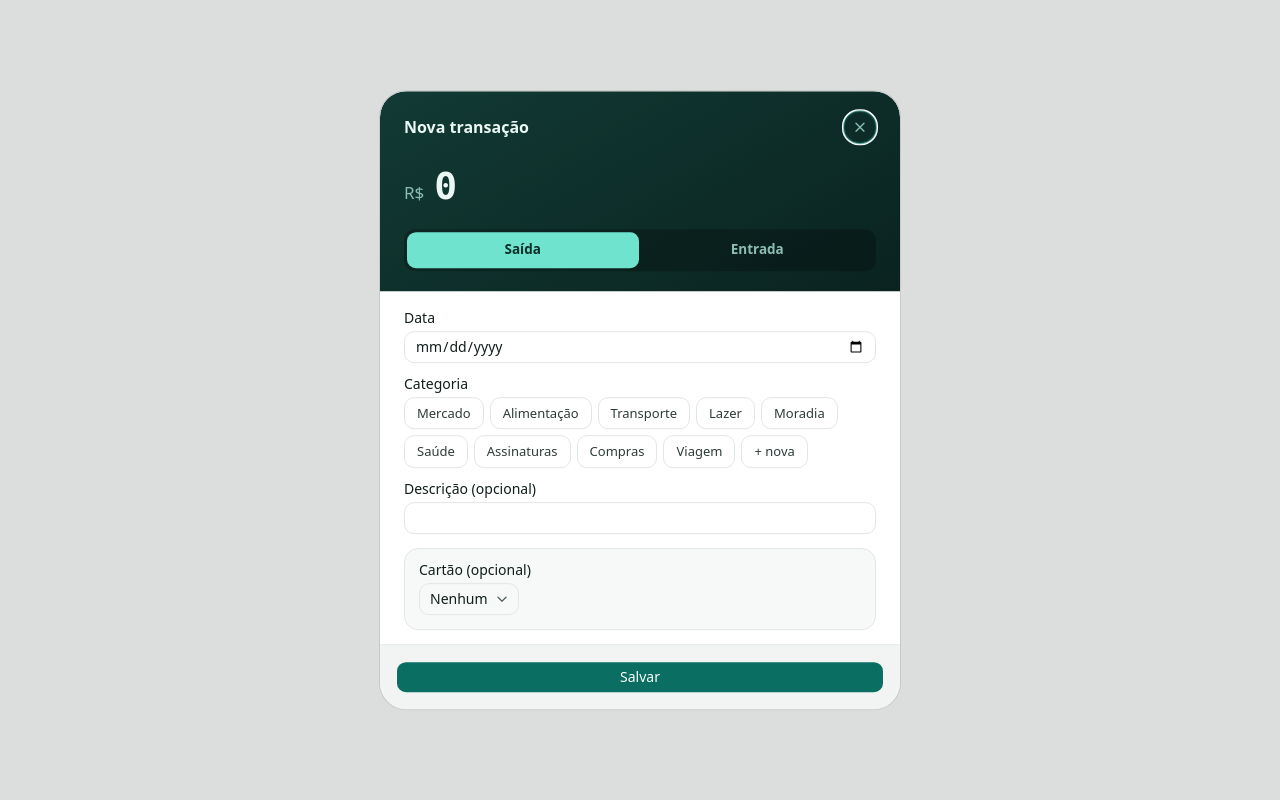
Test: TransactionFormDialog › oculta o campo de cartão quando o tipo é entrada
The width and height of the screenshot is (1280, 800).
Click the button "Entrada". click: (757, 250)
box: [642, 232, 873, 268]
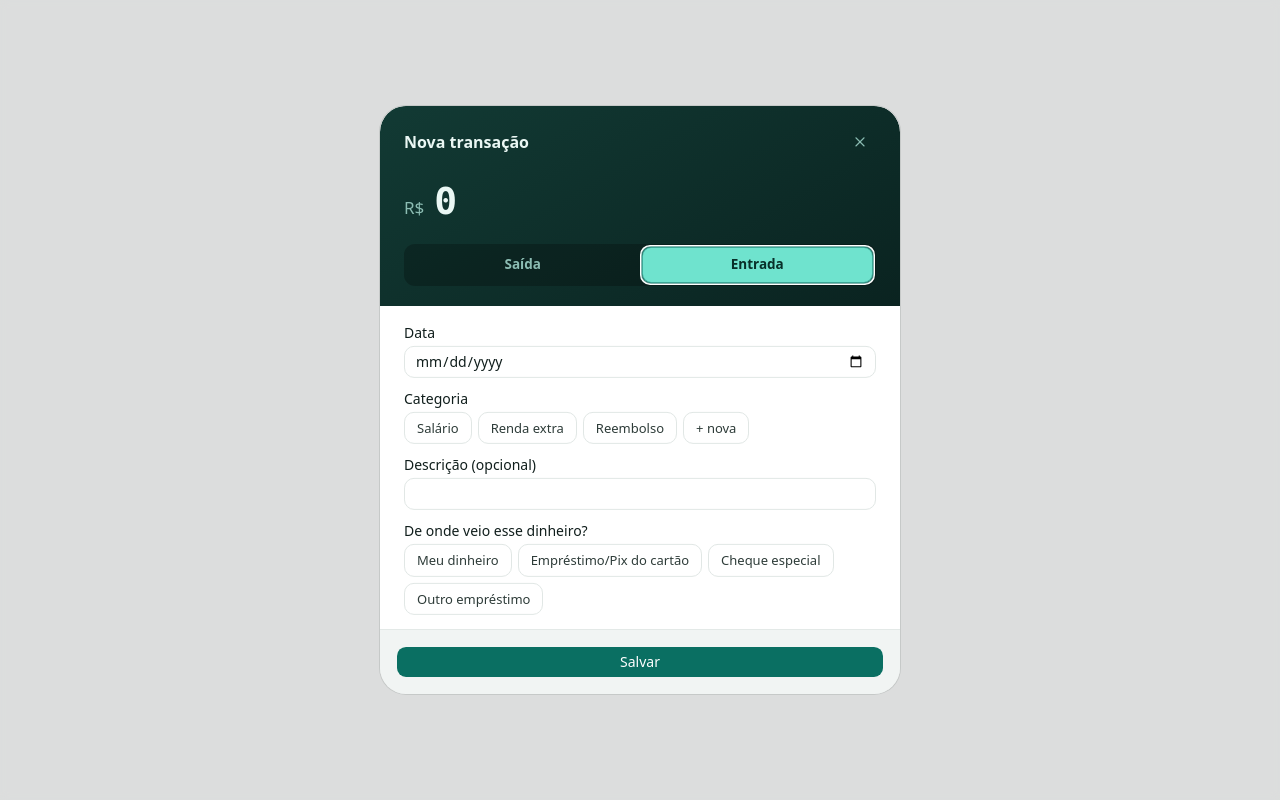
Expected: the text "Cartão (opcional)" is gone
